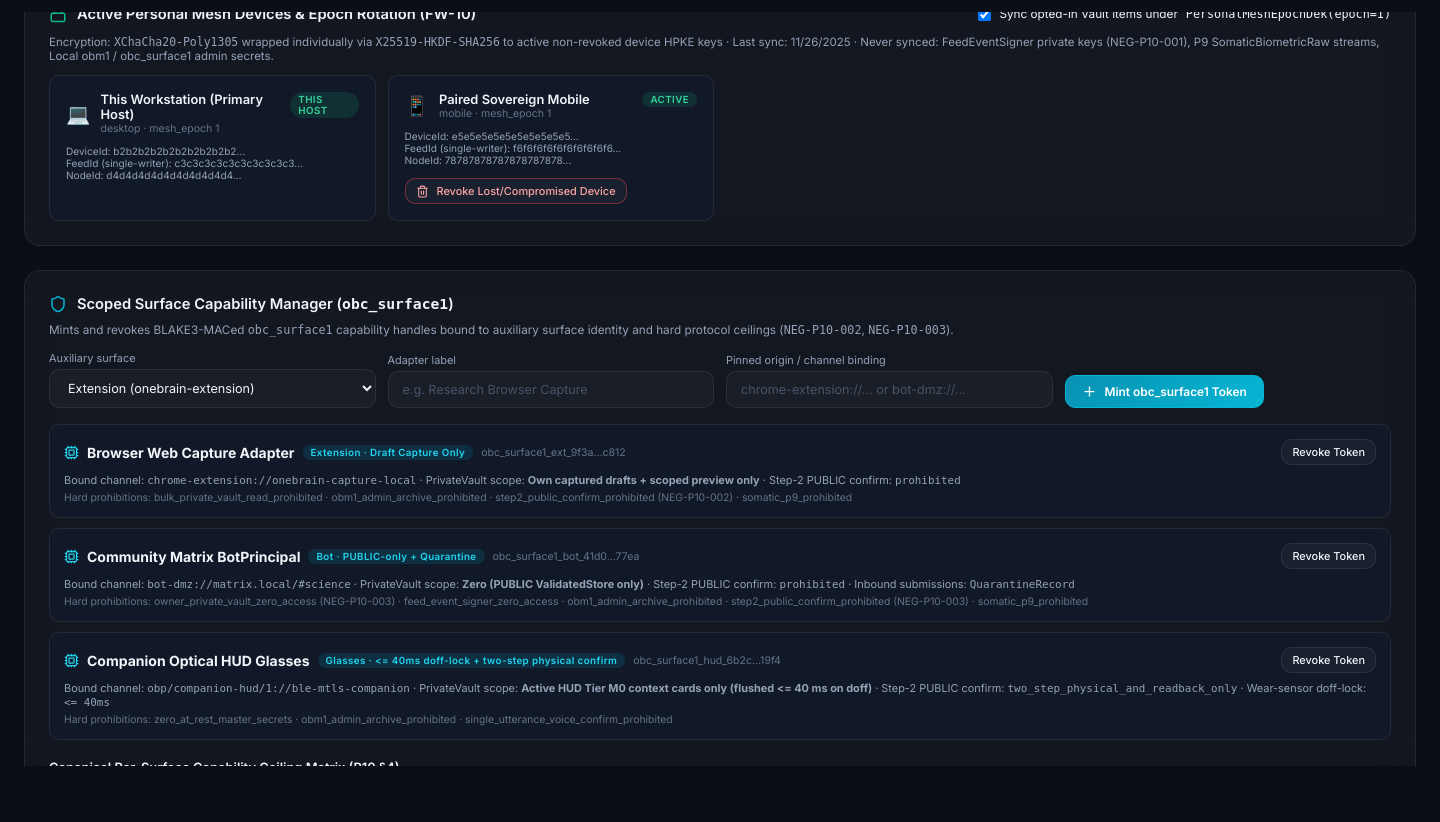
Personal Mesh & Scoped Surface Capabilities Control Plane (Devices.tsx) › renders Extension, Bot, and Glasses obc_surface1 capability ceilings and mints/revokes scoped tokens
The width and height of the screenshot is (1440, 822).
(page scrolled)
Expected: the heading "Scoped Surface Capability Manager (obc_surface1)" is shown, [77,295,454,313]
Expected: the text "Extension · Draft Capture Only" is shown, [302,444,473,460]
Select "Glasses (onebrain-glasses · <= 40ms doff-lock)" in the dropdown labelled "Auxiliary surface": (212, 388) [49,369,376,408]
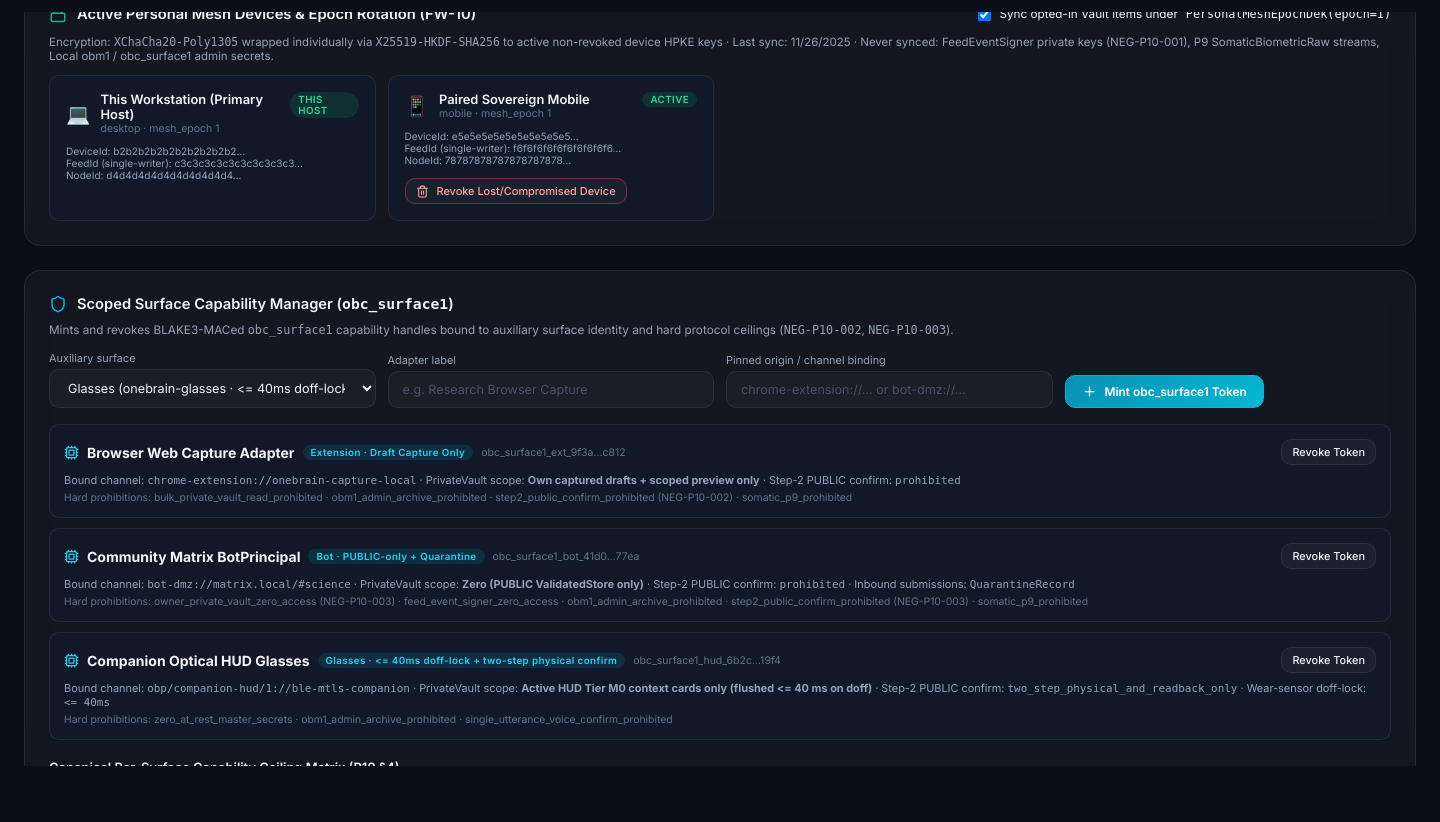
In the field labelled "Adapter label": (551, 390) [388,371,714,408], type "Field Optical HUD v2"
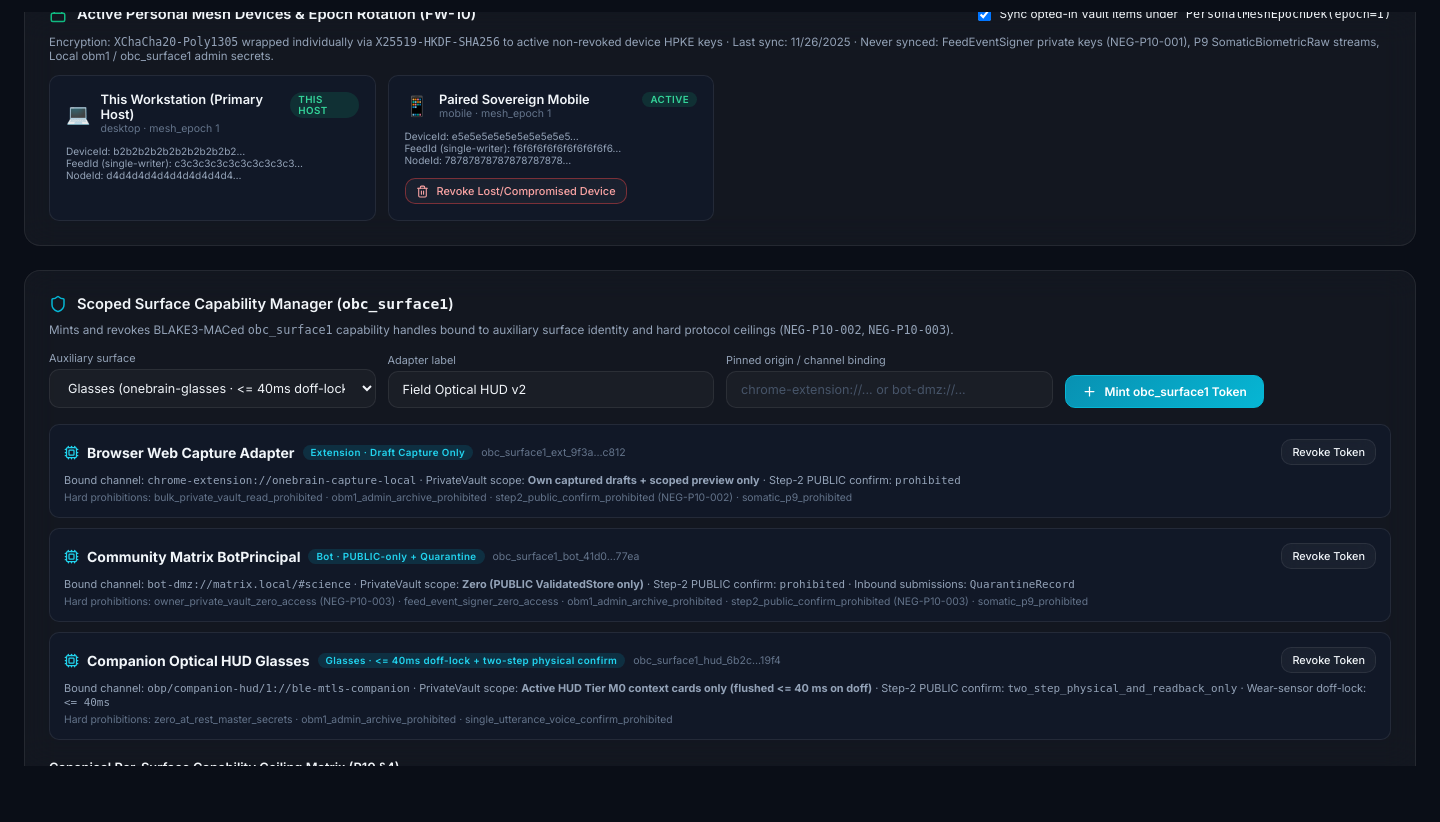
Click the button "Mint obc_surface1 Token": (1164, 392) [1064,375,1264,408]
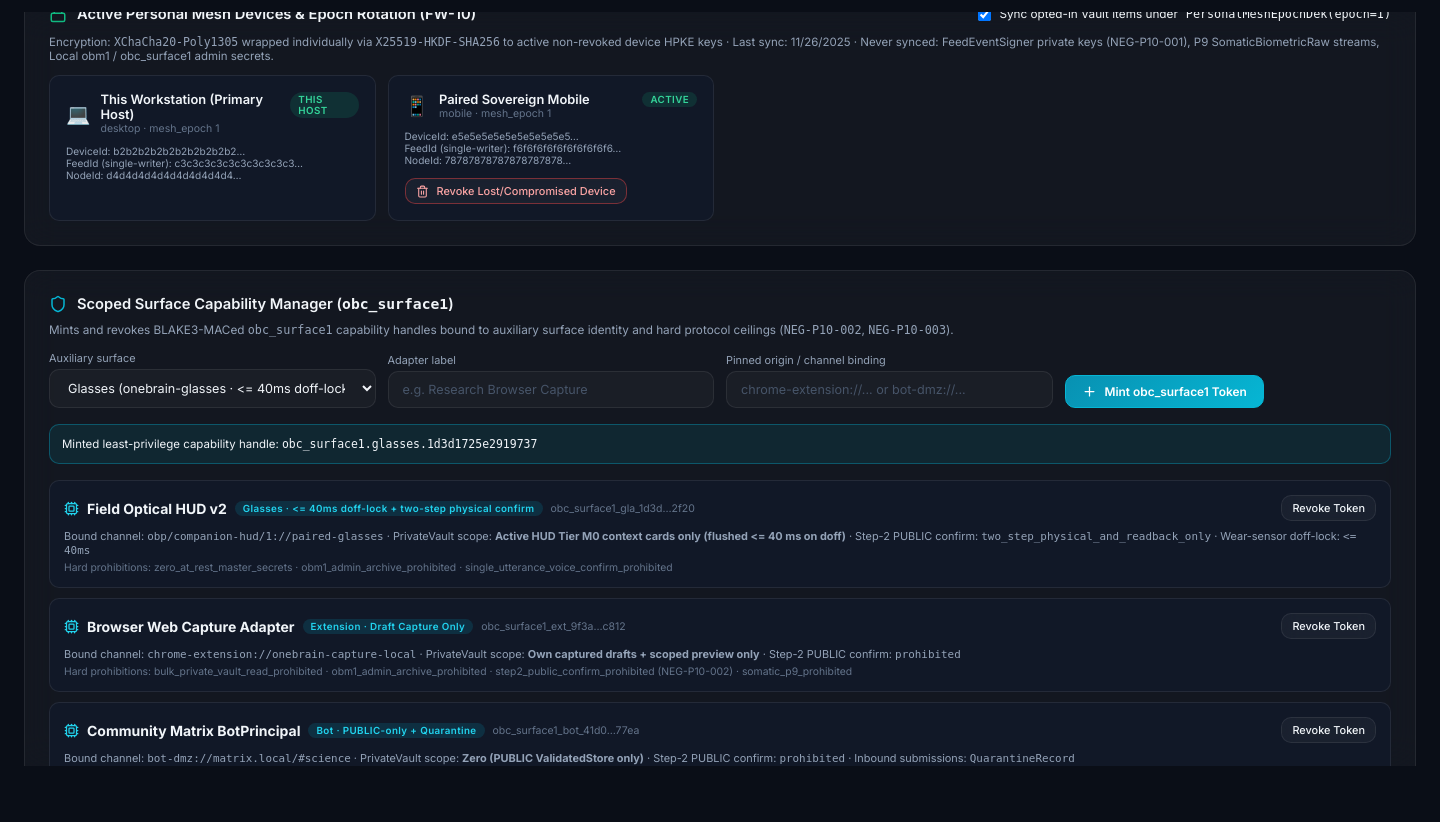
Expected: the text "obc_surface1.glasses.1d3d1725e2919737" is shown, [282,437,537,451]
Expected: the text "Field Optical HUD v2" is shown, [87,500,227,516]
Click the button with aria-label "Revoke surface token Field Optical HUD v2": (1329, 508) [1281,495,1376,521]
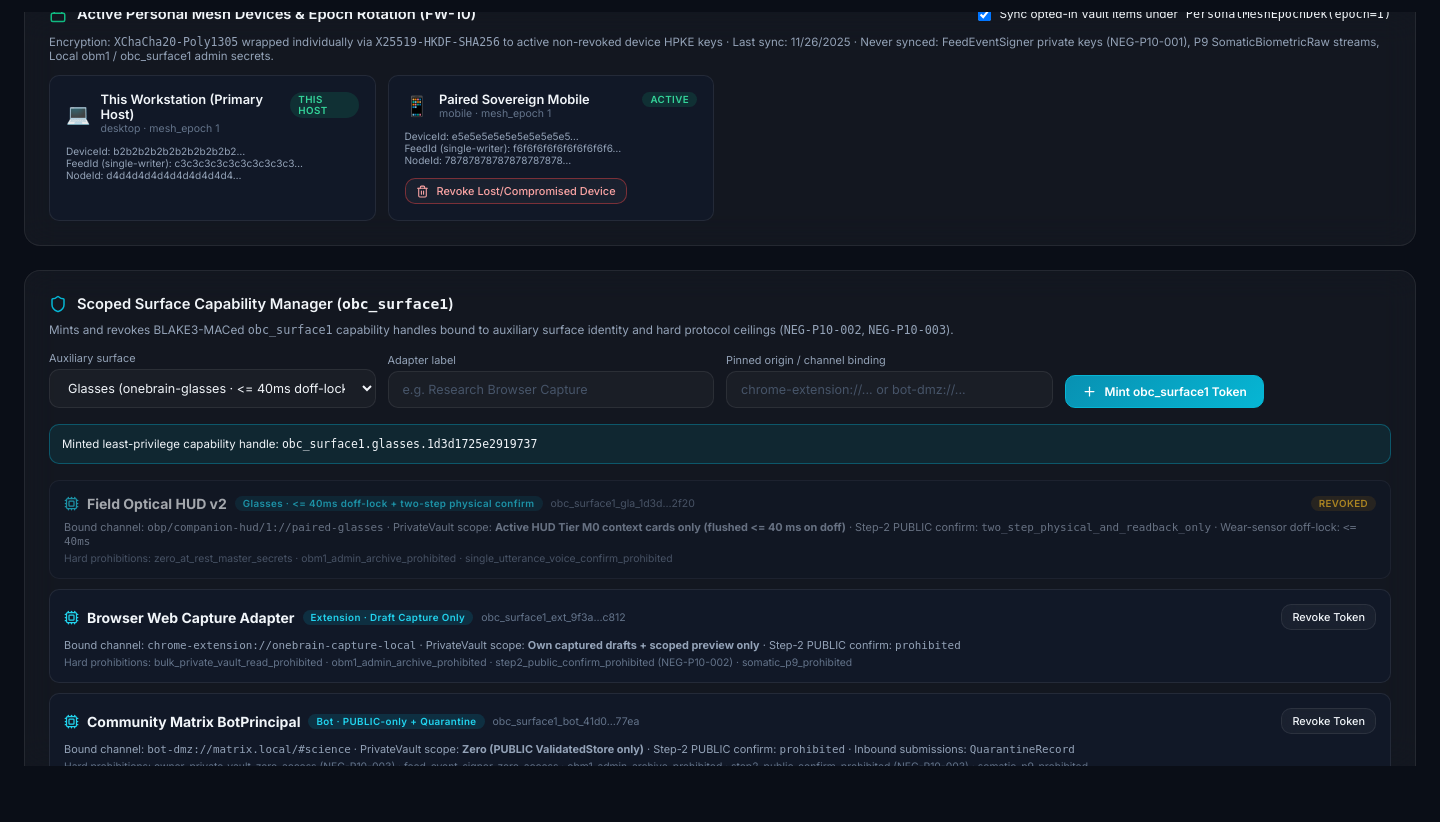
Expected: the text "Revoked" is shown, [1311,496,1376,511]
